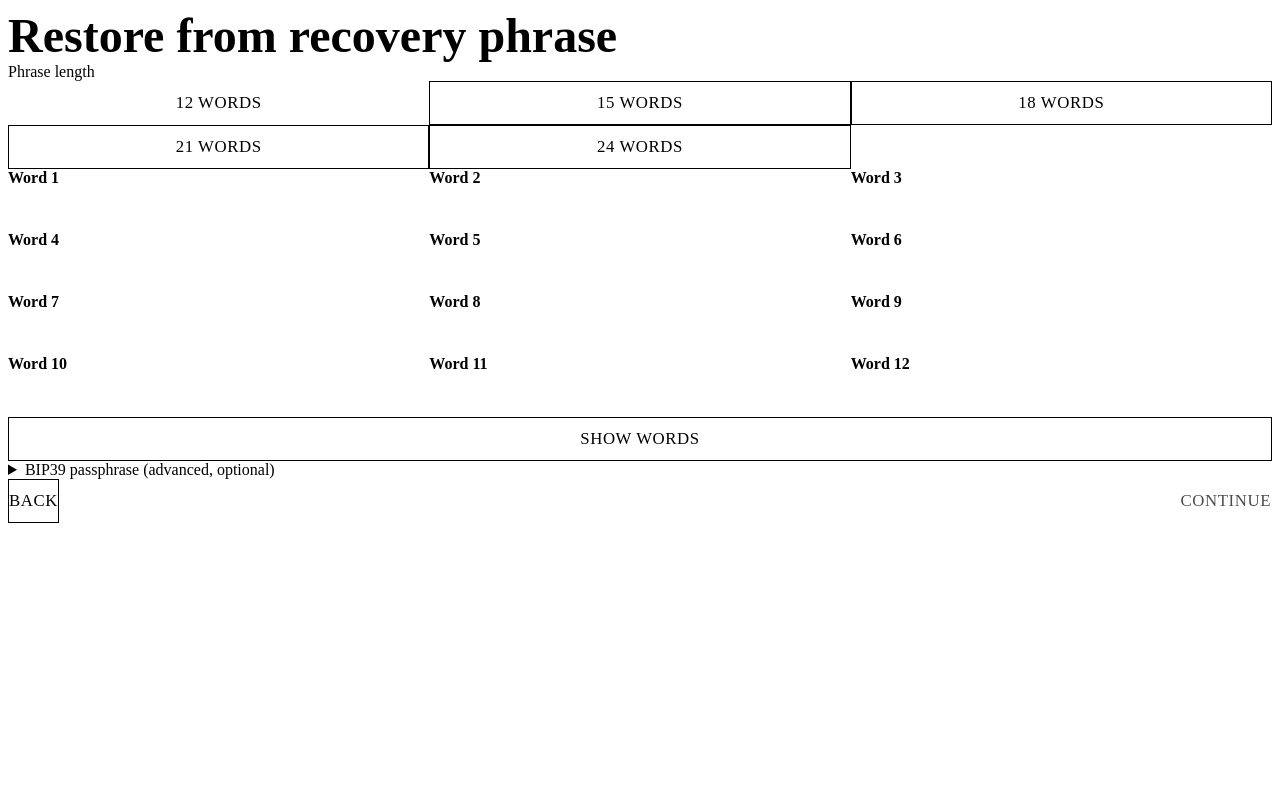
RestoreFlow phrase paste › asks only for the wallet name when restoring into an unlocked profile
The width and height of the screenshot is (1280, 800).
Type "pitch food above path indicate infant ride bacon neither stable raise hobby tonight tomorrow human limb wait cigar now second trophy one canvas zone" into the password field labelled "Word 1". click: point(219, 209)
box: [8, 187, 429, 231]
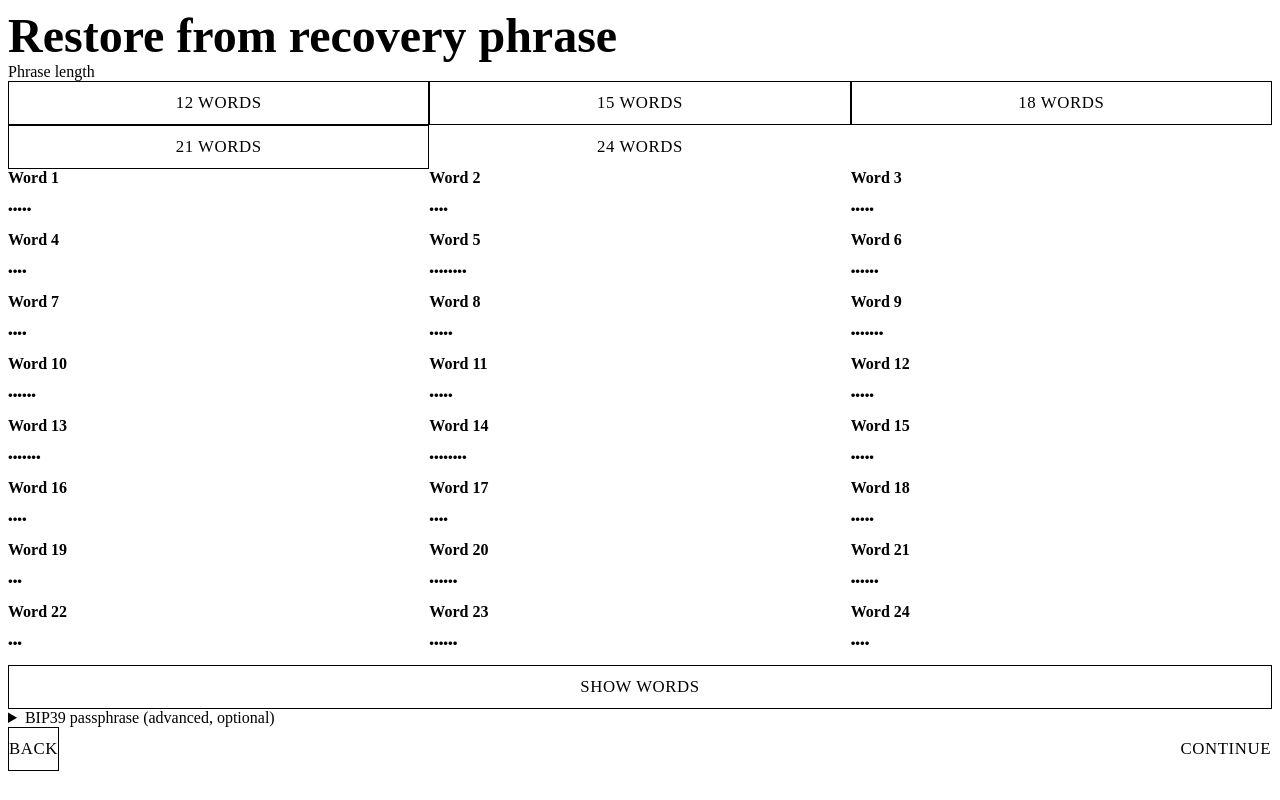
Click the button "Continue". click: point(1226, 749)
box: [1180, 727, 1272, 771]
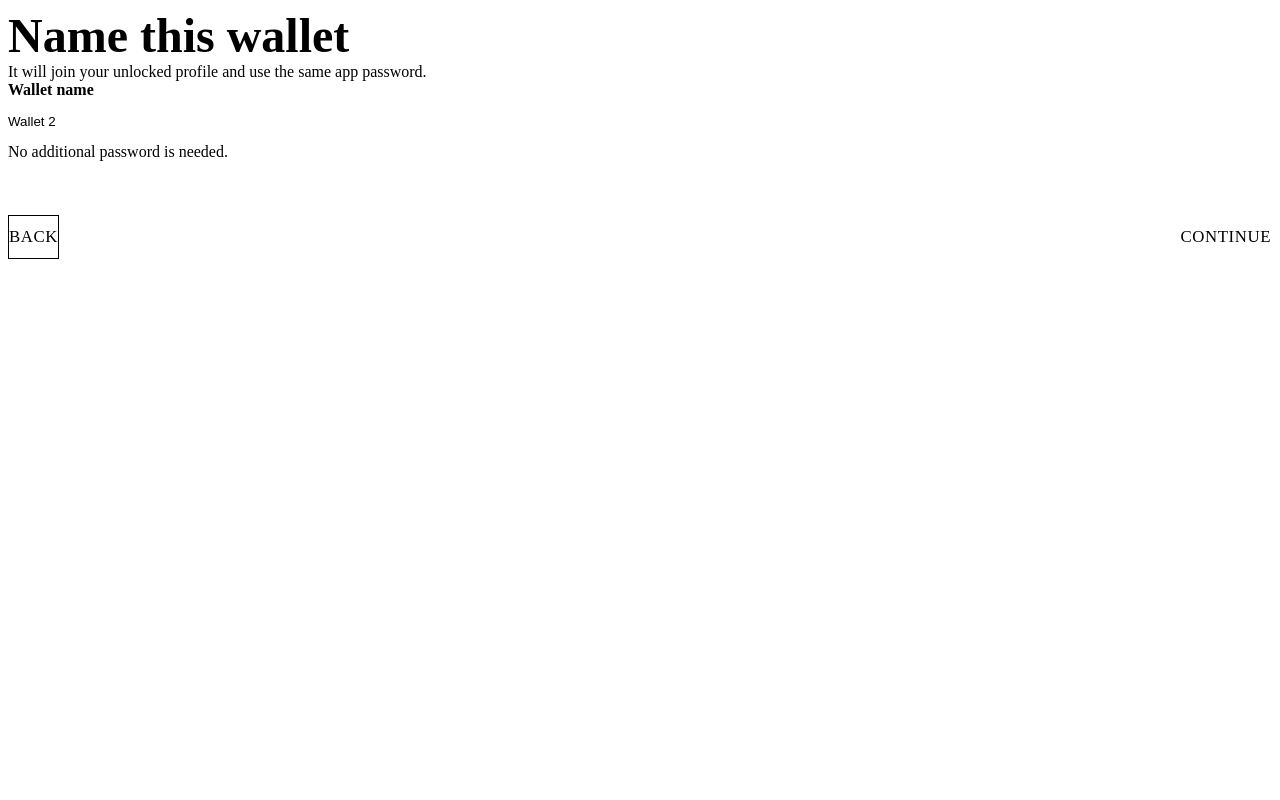
Check: the button "Continue" is enabled, box [1180, 215, 1272, 259]
Check: the heading "Name this wallet" is shown, box [8, 9, 349, 62]
Check: the field labelled "Wallet name" holds "Wallet 2", box [8, 99, 1272, 143]
